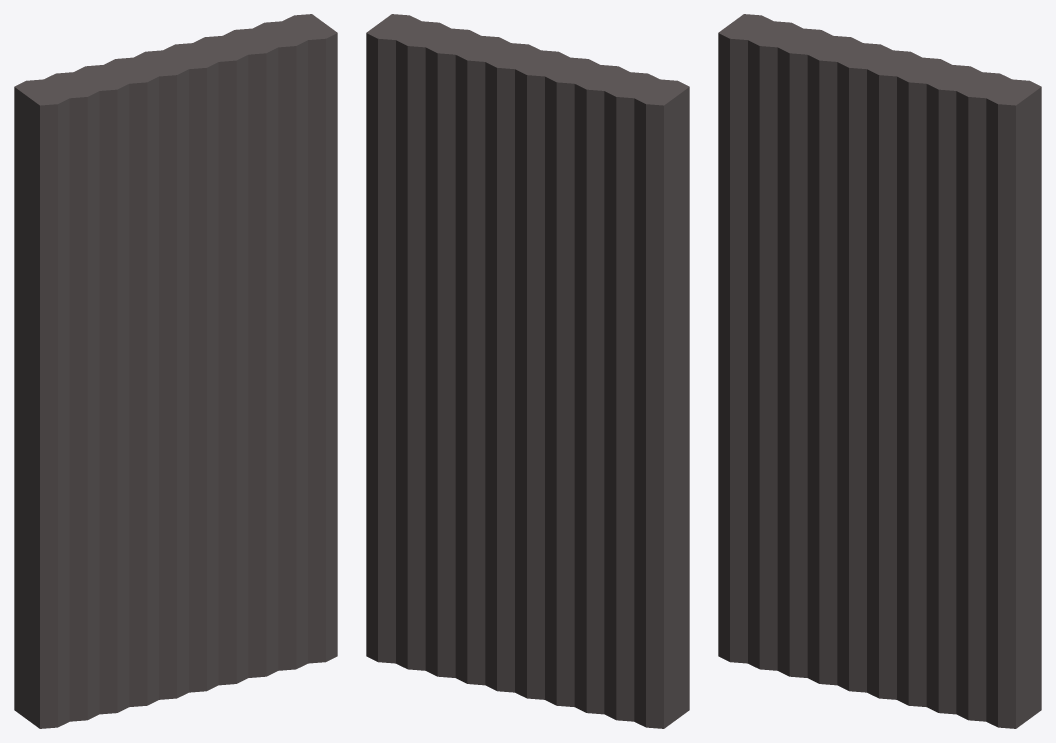
File: CorrugatedMetalWall.glb
3 renders of one model, left to right at view 1: azimuth 30°, elevation 25°; view 2: azimuth 150°, elevation 25°; view 3: azimuth 330°, elevation 25°, orthographic.
Visible parts, largest first — view 1: wall_corregated; view 2: wall_corregated; view 3: wall_corregated.
Part boxes in pixels (x1=…): wall_corregated: x1=14, y1=14, x2=337, y2=728; wall_corregated: x1=366, y1=14, x2=689, y2=728; wall_corregated: x1=718, y1=14, x2=1041, y2=728.
Size of what is drawn, in the model's own units: 2 by 4 by 0.3712.
Materials: 1 (1 with a texture image).
